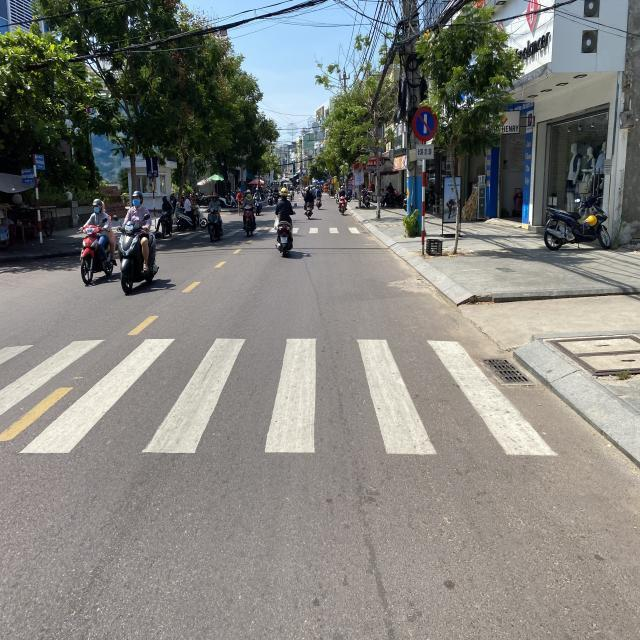walk-crossing: (0, 336, 549, 460)
